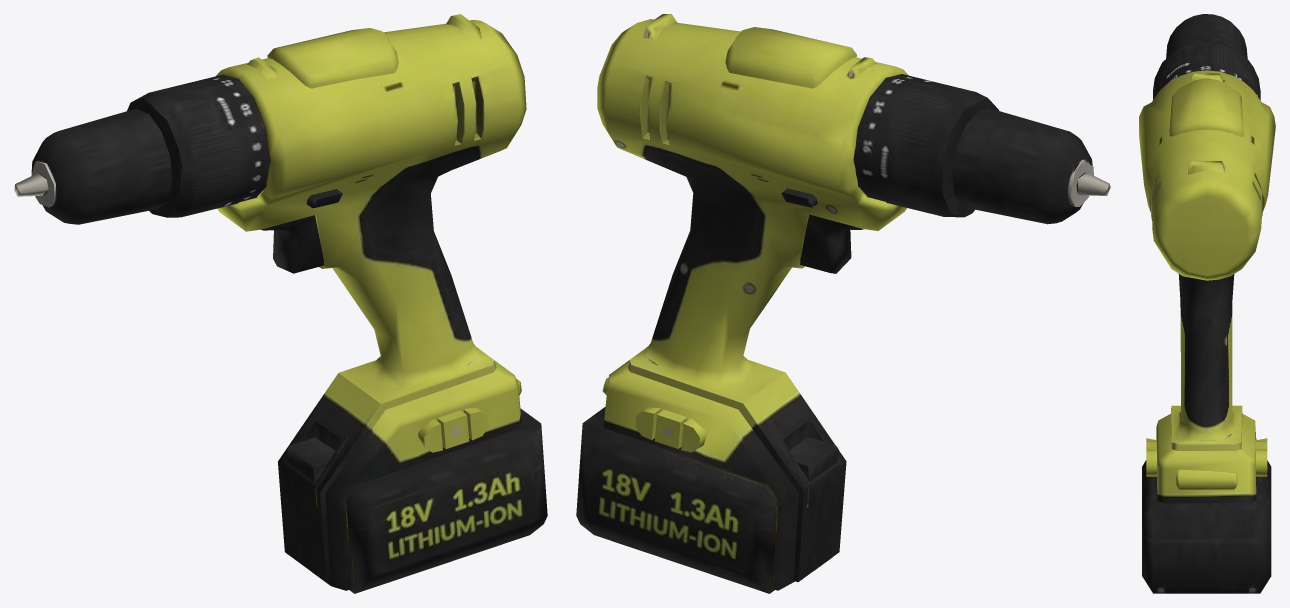
Rendered from g_drill.glb.
The picture shows the model from 3 angles, left to right: view 1: azimuth 30°, elevation 25°; view 2: azimuth 150°, elevation 25°; view 3: azimuth 270°, elevation 25°; orthographic projection. The views are drawn at different scales.
Visible parts, largest first — view 1: Drill_01; view 2: Drill_01; view 3: Drill_01.
Part boxes in pixels (x1=…): Drill_01: x1=14, y1=14, x2=547, y2=593; Drill_01: x1=576, y1=14, x2=1110, y2=593; Drill_01: x1=1139, y1=14, x2=1275, y2=593.
Bounding box in the file's own units: 0.1826 × 0.1851 × 0.0519.
Materials: 1 (1 with a texture image).
